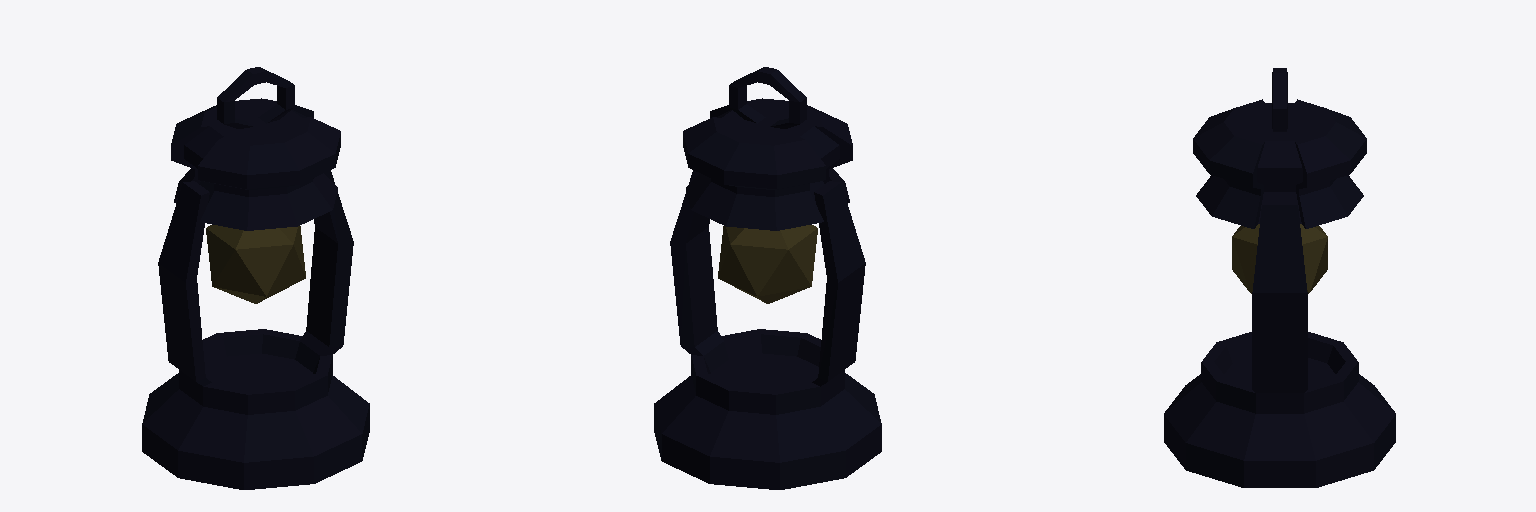
The model's file is Lantern.obj.
3 renders of one model, left to right at view 1: azimuth 30°, elevation 25°; view 2: azimuth 150°, elevation 25°; view 3: azimuth 270°, elevation 25°, orthographic.
Parts seen in each view (by area): view 1: Lantern_Circle.004; view 2: Lantern_Circle.004; view 3: Lantern_Circle.004.
Part boxes in pixels (left/top/right/bottom): Lantern_Circle.004: left=142, top=67, right=369, bottom=489; Lantern_Circle.004: left=654, top=67, right=881, bottom=489; Lantern_Circle.004: left=1164, top=68, right=1395, bottom=487.
Bounding box in the file's own units: 0.7909 × 1.46 × 0.8316.